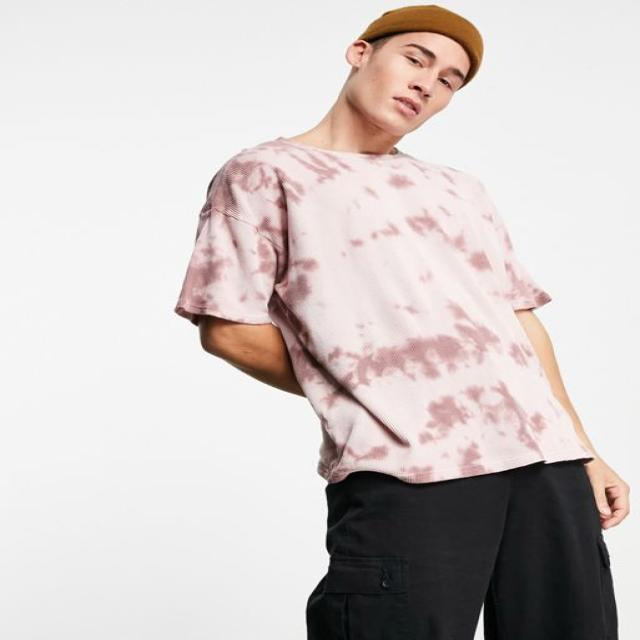tshirt: (176, 137, 590, 484)
